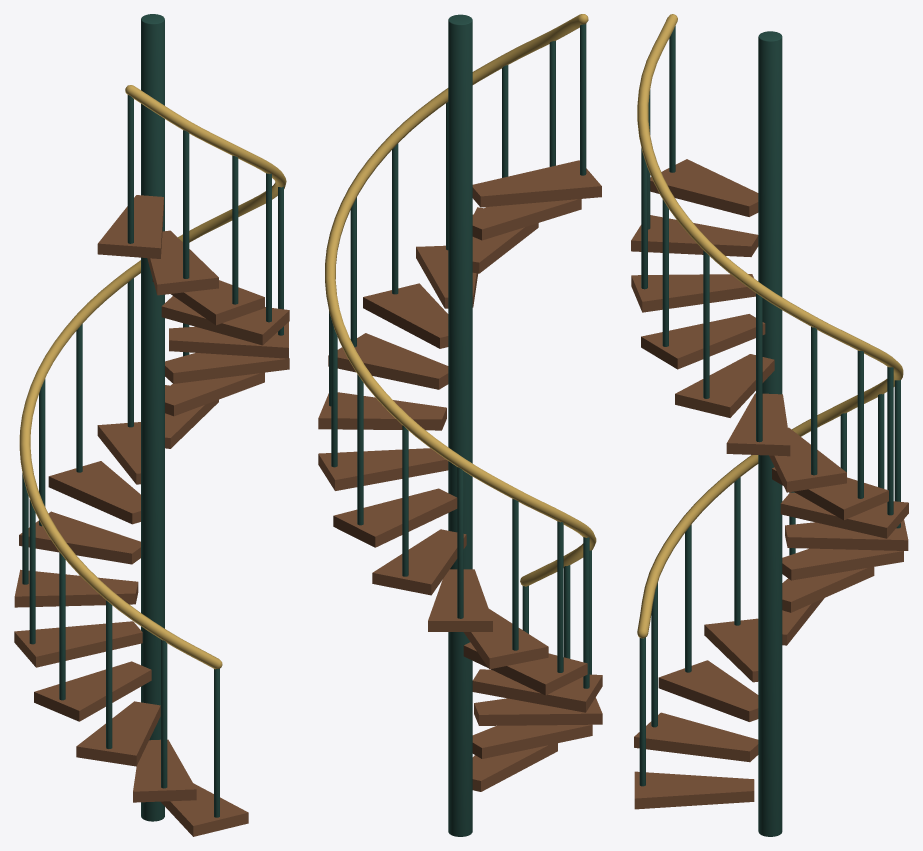
File: spiral_stair.glb
3 renders of one model, left to right at view 1: azimuth 30°, elevation 25°; view 2: azimuth 150°, elevation 25°; view 3: azimuth 270°, elevation 25°, orthographic. The views are drawn at different scales.
Parts seen in each view (by area): view 1: Central_column, Continuous_rail, Wedge_tread.004, Wedge_tread.003, Wedge_tread.007, Wedge_tread.002, Wedge_tread.006, Wedge_tread.005, Wedge_tread.016, Wedge_tread.001, Wedge_tread.011, Wedge_tread.012 (+21 smaller); view 2: Central_column, Continuous_rail, Wedge_tread.016, Wedge_tread.008, Wedge_tread.009, Wedge_tread.007, Wedge_tread.011, Wedge_tread.012, Wedge_tread.010, Wedge_tread.006, Wedge_tread.003, Wedge_tread.002 (+20 smaller); view 3: Central_column, Continuous_rail, Wedge_tread, Wedge_tread.001, Wedge_tread.002, Wedge_tread.013, Wedge_tread.016, Wedge_tread.012, Wedge_tread.014, Wedge_tread.015, Wedge_tread.011, Wedge_tread.006 (+21 smaller).
Part boxes in pixels (box(x1,y1,x2,y2)): Central_column: box(141, 14, 164, 821); Continuous_rail: box(19, 85, 286, 669); Wedge_tread.004: box(14, 621, 142, 667); Wedge_tread.003: box(34, 661, 151, 721); Wedge_tread.007: box(48, 461, 140, 524); Wedge_tread.002: box(76, 701, 160, 766); Wedge_tread.006: box(19, 511, 140, 564); Wedge_tread.005: box(14, 569, 138, 607); Wedge_tread.016: box(97, 195, 163, 258); Wedge_tread.001: box(133, 739, 196, 802); Wedge_tread.011: box(165, 353, 289, 383); Wedge_tread.012: box(169, 322, 288, 358); Central_column: box(448, 14, 472, 836); Continuous_rail: box(325, 14, 596, 586); Wedge_tread.016: box(472, 160, 601, 207); Wedge_tread.008: box(333, 488, 457, 547); Wedge_tread.009: box(318, 448, 448, 490); Wedge_tread.007: box(372, 529, 466, 595); Wedge_tread.011: box(328, 333, 448, 389); Wedge_tread.012: box(363, 283, 448, 348); Wedge_tread.010: box(318, 392, 446, 430); Wedge_tread.006: box(428, 569, 492, 631); Wedge_tread.003: box(472, 669, 602, 712); Wedge_tread.002: box(474, 697, 602, 725); Central_column: box(758, 31, 782, 836); Continuous_rail: box(637, 14, 903, 638); Wedge_tread: box(634, 771, 754, 809); Wedge_tread.001: box(634, 712, 758, 762); Wedge_tread.002: box(658, 660, 758, 721); Wedge_tread.013: box(641, 314, 765, 369); Wedge_tread.016: box(650, 159, 758, 216); Wedge_tread.012: box(675, 354, 774, 417); Wedge_tread.014: box(631, 274, 755, 312); Wedge_tread.015: box(631, 215, 758, 256); Wedge_tread.011: box(726, 393, 790, 456); Wedge_tread.006: box(782, 548, 903, 580).
Bounding box in the file's own units: 1.39 × 4.4 × 1.39.
